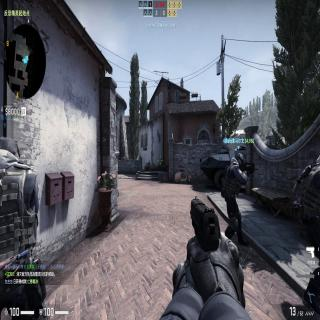CT-Body: (221, 152, 250, 246)
CT-Head: (1, 139, 20, 158), (235, 153, 245, 167)
